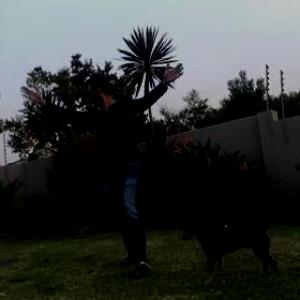takeoff: (28, 56, 187, 256)
